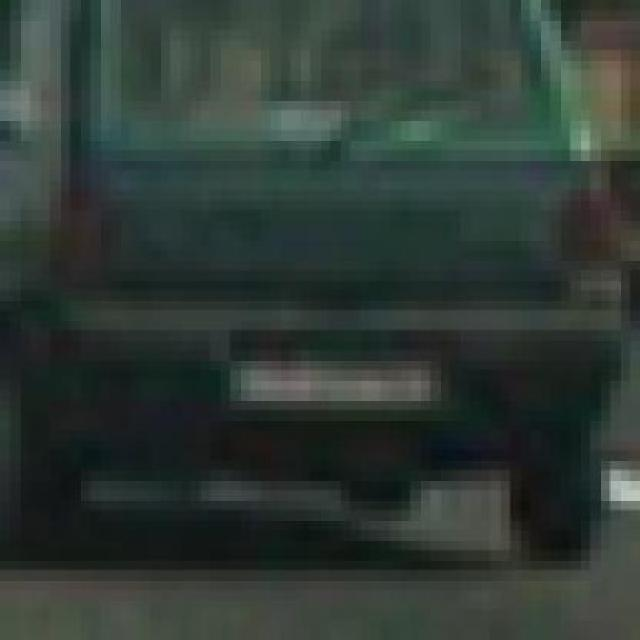vehicle: (4, 0, 638, 580)
